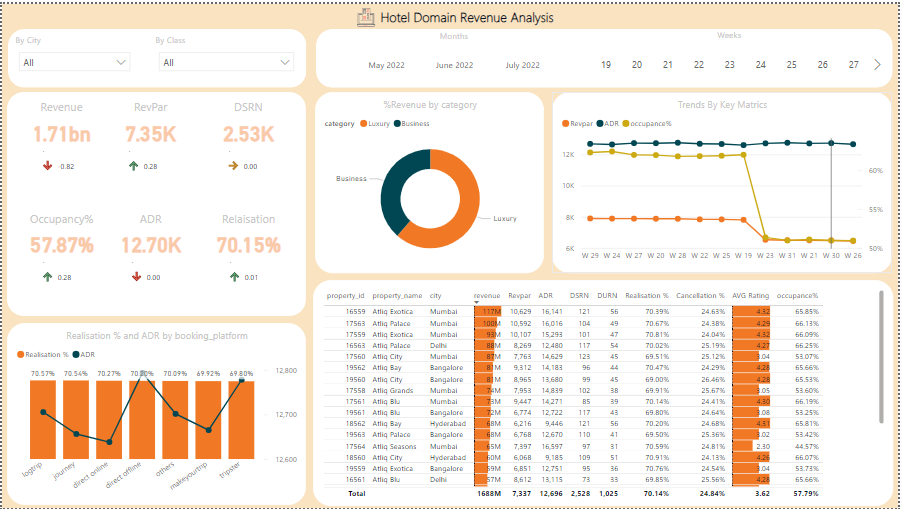

This screenshot's page, from the dashboard's own definition file:
{"tool":"powerbi","page":{"name":"Page 1","canvas":[1280,720],"ordinal":0},"visuals":[{"type":"tableEx","fields":{"Values":["dim_hotels.property_id","dim_hotels.property_name","dim_hotels.city","key metrics.revenue","key metrics.Revpar","key metrics.ADR","key metrics.DSRN","key metrics.DURN","key metrics.Realisation %","key metrics.Cancellation %","key metrics.AVG Rating","key metrics.occupance%"]},"box":[443.8,393.8,828.8,322.5],"z":0},{"type":"card","title":"Revenue","fields":{"Values":["key metrics.revenue"]},"box":[21.4,135.7,127.1,74.3],"z":3000},{"type":"donutChart","title":"%Revenue by category","fields":{"Y":["key metrics.revenue"],"Category":["dim_hotels.category"]},"box":[447.1,125.7,327.1,258.6],"z":4000},{"type":"lineChart","title":"Trends By Key Matrics","fields":{"Y":["key metrics.Revpar","key metrics.ADR"],"Category":["dim_date.week no"],"Y2":["key metrics.occupance%"]},"box":[785.7,125.7,485.7,258.6],"z":5000},{"type":"lineStackedColumnComboChart","fields":{"Category":["fact_booking.booking_platform"],"Y":["key metrics.Realisation %"],"Y2":["key metrics.ADR"]},"box":[7.1,455.7,427.1,260],"z":6000},{"type":"shape","box":[7.1,125.7,427.1,320],"z":7000},{"type":"card","title":"DSRN","fields":{"Values":["key metrics.DSRN"]},"box":[288.6,135.7,127.1,74.3],"z":8000},{"type":"card","title":"RevPar","fields":{"Values":["key metrics.Revpar"]},"box":[148.6,135.7,127.1,74.3],"z":9000},{"type":"card","title":"Occupancy%","fields":{"Values":["key metrics.occupance%"]},"box":[21.1,295.6,127.8,73.3],"z":10000},{"type":"card","title":"ADR","fields":{"Values":["key metrics.ADR"]},"box":[148.9,295.6,127.8,73.3],"z":11000},{"type":"card","title":"Relaisation","fields":{"Values":["key metrics.Realisation %"]},"box":[288.9,295.6,127.8,73.3],"z":12000},{"type":"card","title":"Revenue","fields":{"Values":["key metrics.revenue"]},"box":[21.4,135.7,127.1,74.3],"z":13000},{"type":"tableEx","fields":{"Values":["key metrics.Revenue WoW change %"]},"box":[46.7,193.3,76.7,66.7],"z":14000},{"type":"tableEx","fields":{"Values":["key metrics.DSRN WoW change %"]},"box":[313.3,193.3,76.7,66.7],"z":15000},{"type":"tableEx","fields":{"Values":["key metrics.Revpar WoW change %"]},"box":[170,193.3,76.7,66.7],"z":16000},{"type":"tableEx","fields":{"Values":["key metrics.Occupancy WoW change %"]},"box":[47.8,351.1,76.7,66.7],"z":17000},{"type":"tableEx","fields":{"Values":["key metrics.ADR WoW change %"]},"box":[174.4,351.1,76.7,66.7],"z":18000},{"type":"tableEx","fields":{"Values":["key metrics.Realisation WoW change %"]},"box":[314.4,351.1,76.7,66.7],"z":19000},{"type":"shape","box":[8.8,36.2,426.2,83.8],"z":20000},{"type":"slicer","title":"By Class","fields":{"Values":["dim_rooms.room_class"]},"box":[214.3,42.9,212.9,82.9],"z":21000},{"type":"slicer","title":"By City","fields":{"Values":["dim_hotels.city"]},"box":[14.3,42.9,178.6,82.9],"z":22000},{"type":"shape","box":[448.8,36.2,823.8,83.8],"z":23000},{"type":"slicer","title":"Months","fields":{"Values":["dim_date.mmm yy"]},"box":[475,37.5,340,82.5],"z":23001},{"type":"slicer","title":"Weeks","fields":{"Values":["dim_date.wn"]},"box":[815,36.2,446.2,83.8],"z":23002},{"type":"textbox","box":[536.2,0,270,36.2],"z":23003},{"type":"image","box":[447.5,0,146.2,37.5],"z":23004}]}

Visuals, with their boxes in screenshot pixels (x1, y1, x2, y2), scaled from the page's 1280x720 canvas onto the 902x509 screenshot:
tableEx - dim_hotels.property_id x dim_hotels.property_name: [313,278,897,506]
"Revenue" card: [15,96,105,148]
"%Revenue by category" donutChart: [315,89,546,272]
"Trends By Key Matrics" lineChart: [554,89,896,272]
lineStackedColumnComboChart - fact_booking.booking_platform x key metrics.Realisation %: [5,322,306,506]
shape: [5,89,306,315]
"DSRN" card: [203,96,293,148]
"RevPar" card: [105,96,194,148]
"Occupancy%" card: [15,209,105,261]
"ADR" card: [105,209,195,261]
"Relaisation" card: [204,209,294,261]
"Revenue" card: [15,96,105,148]
tableEx - key metrics.Revenue WoW change %: [33,137,87,184]
tableEx - key metrics.DSRN WoW change %: [221,137,275,184]
tableEx - key metrics.Revpar WoW change %: [120,137,174,184]
tableEx - key metrics.Occupancy WoW change %: [34,248,88,295]
tableEx - key metrics.ADR WoW change %: [123,248,177,295]
tableEx - key metrics.Realisation WoW change %: [222,248,276,295]
shape: [6,26,307,85]
"By Class" slicer: [151,30,301,89]
"By City" slicer: [10,30,136,89]
shape: [316,26,897,85]
"Months" slicer: [335,27,574,85]
"Weeks" slicer: [574,26,889,85]
textbox: [378,0,568,26]
image: [315,0,418,27]
